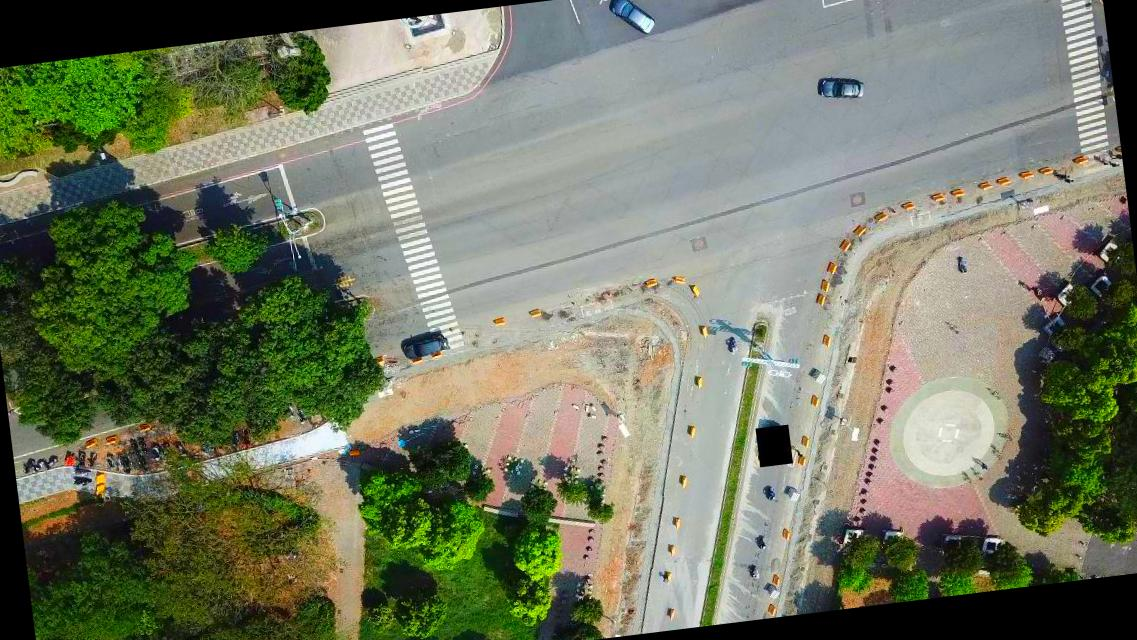vehicle: (607, 0, 657, 42), (398, 329, 449, 360), (818, 74, 864, 105)
